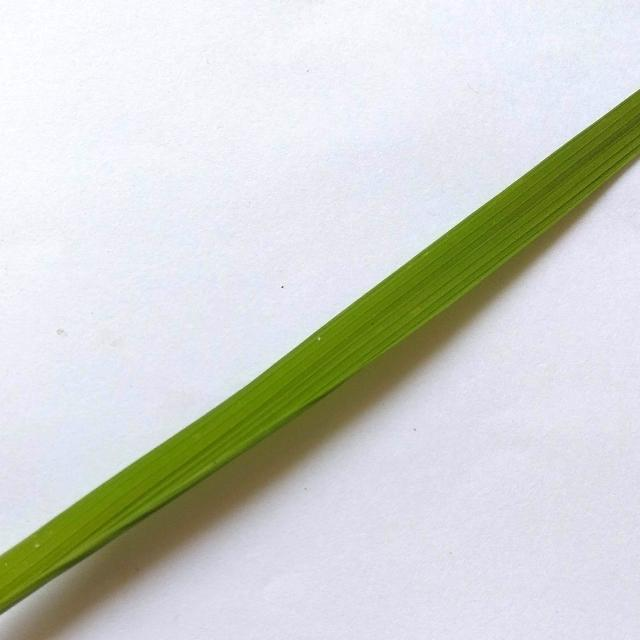Rice_Healthy: (0, 91, 640, 613)
